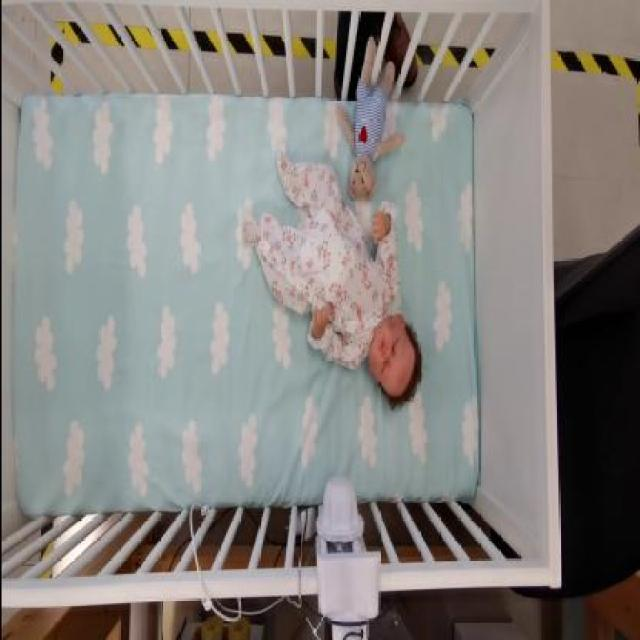baby: (246, 146, 424, 414)
